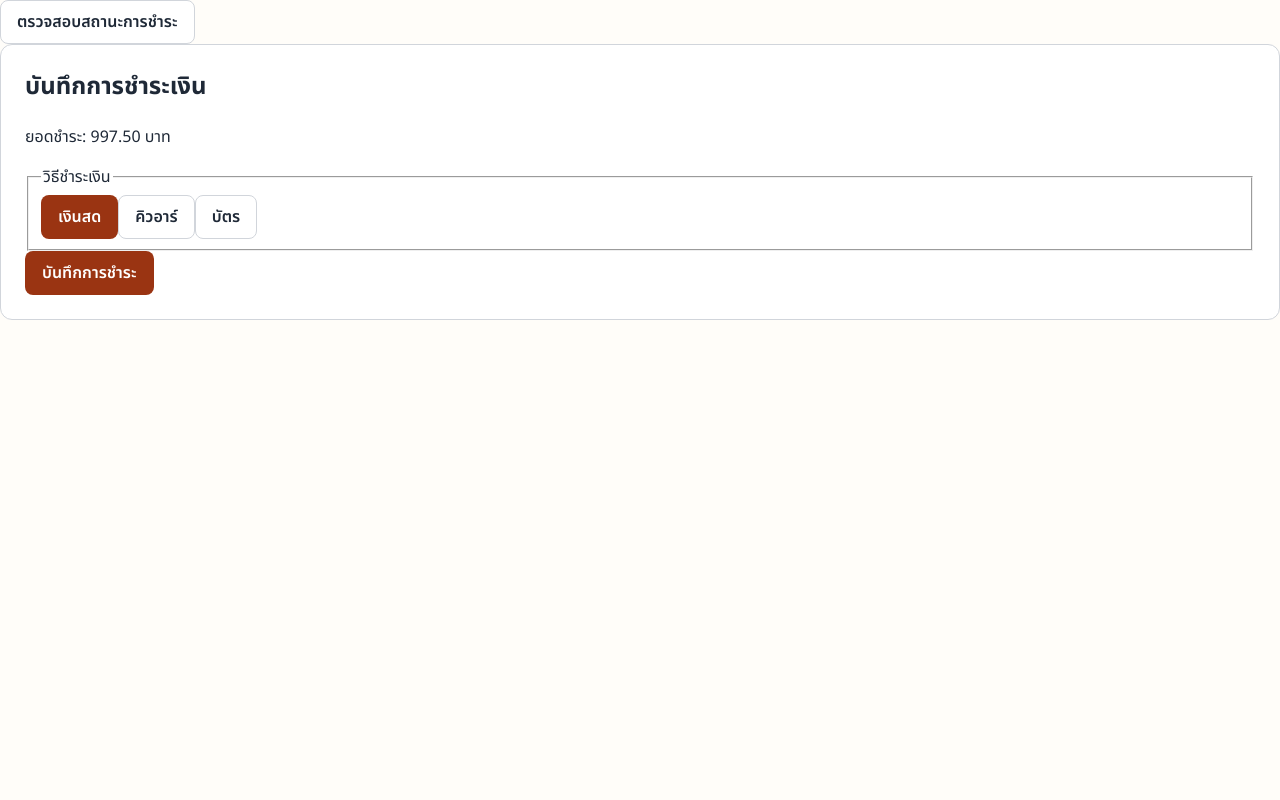
Test case: Payment status and recovery › keeps retries blocked when reconciliation fails
The width and height of the screenshot is (1280, 800).
Click the button "บันทึกการชำระ".
click(89, 272)  # box [25,250,154,294]
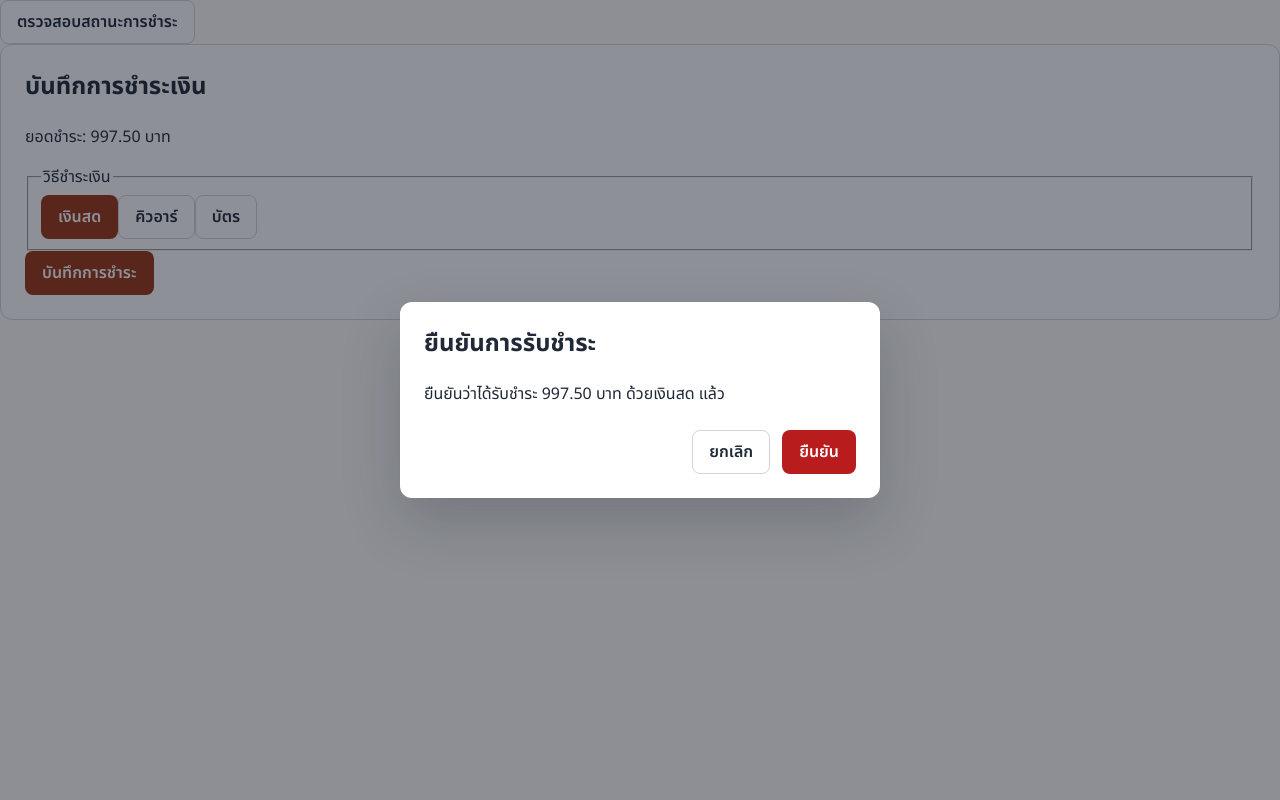
Click the button "ยืนยัน".
click(819, 452)  # box [782,430,856,474]
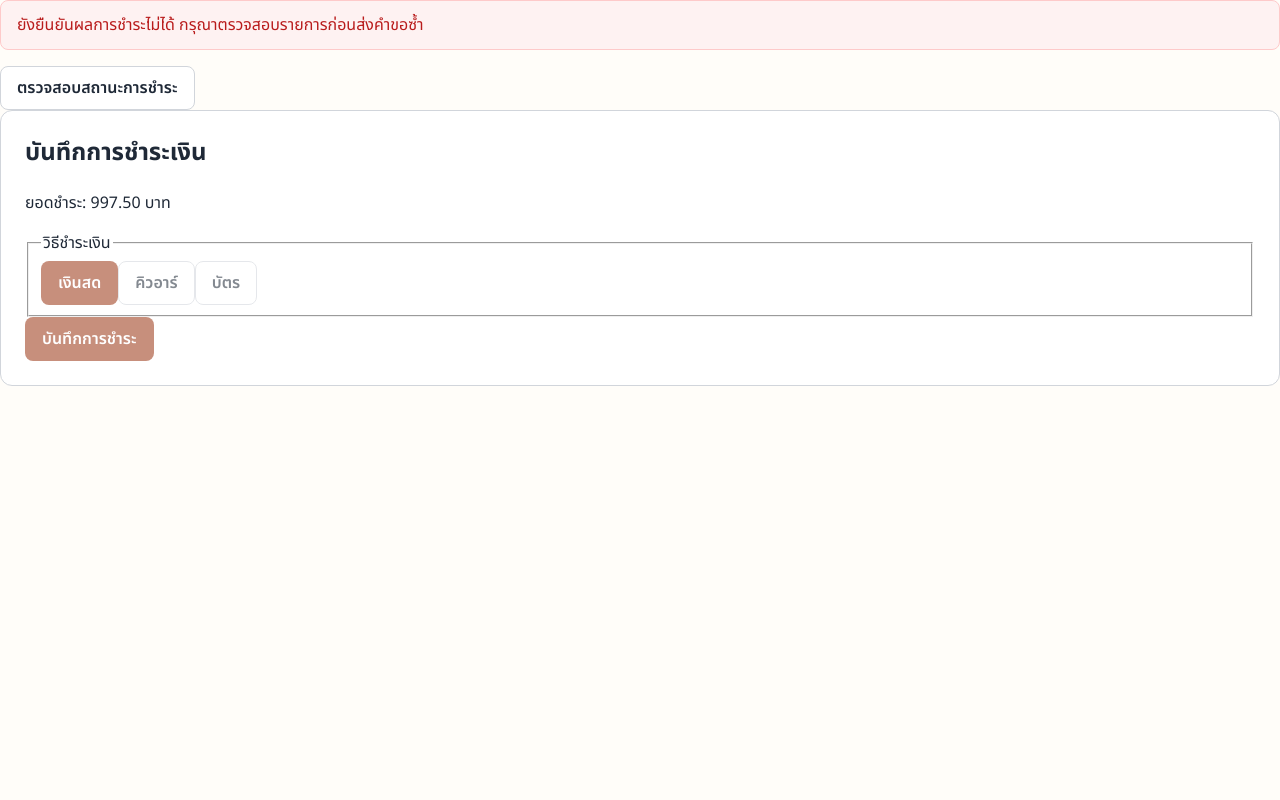
expect the message "ยังยืนยันผลการชำระไม่ได้ กรุณาตรวจสอบรายการก่อนส่งคำขอซ้ำ" is shown: met, box [0,0,1279,50]
Click the button "ตรวจสอบสถานะการชำระ".
click(97, 88)  # box [0,66,194,110]
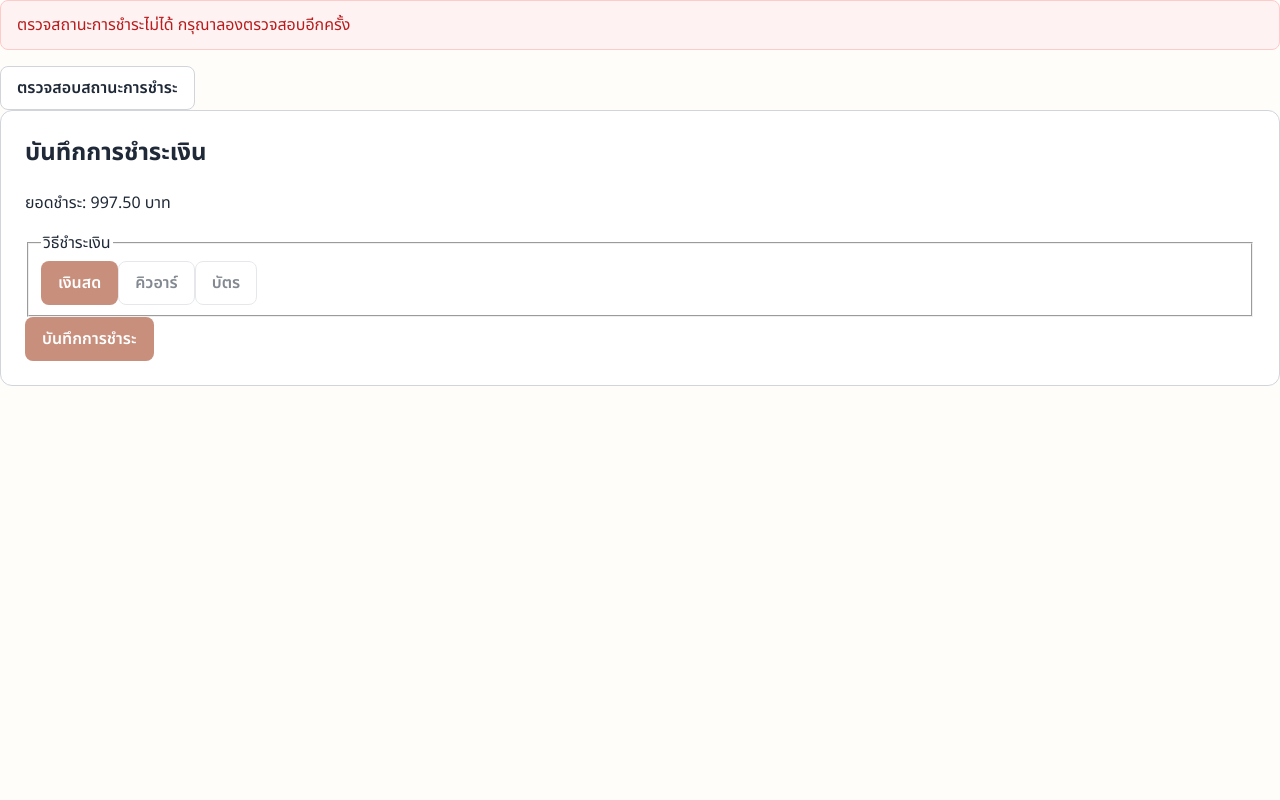
expect the button "บันทึกการชำระ" is disabled: met, box [25,316,154,360]
expect the text "ตรวจสถานะการชำระไม่ได้ กรุณาลองตรวจสอบอีกครั้ง" is shown: met, box [0,0,1279,50]
